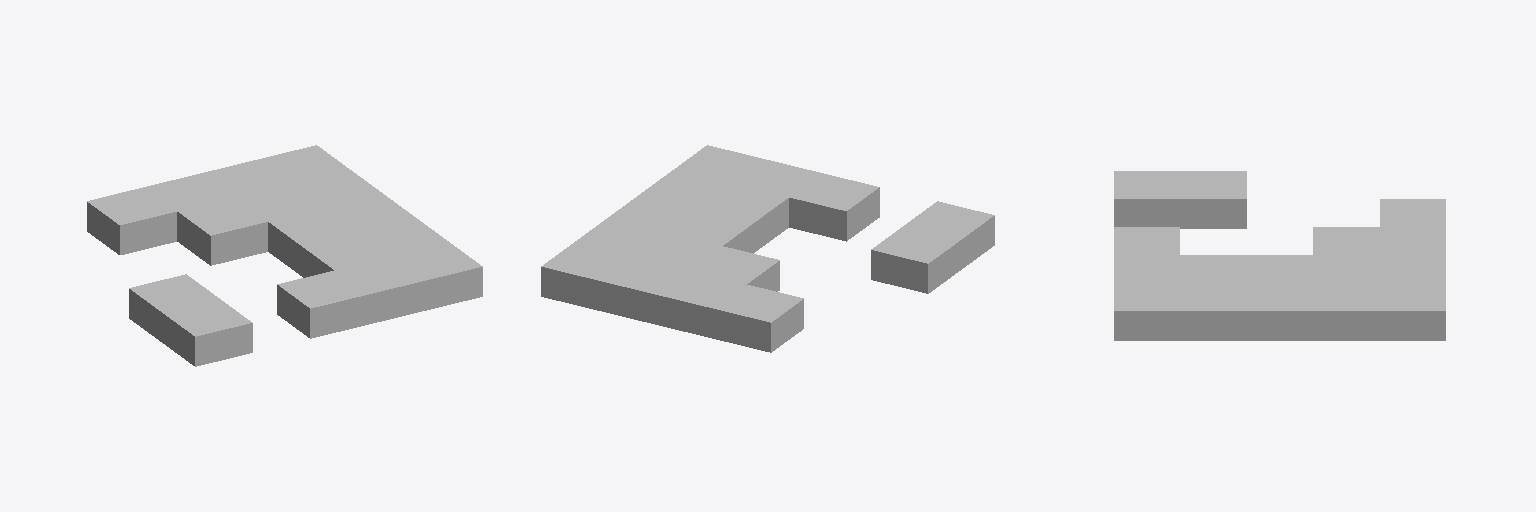
The model's file is 67s_block.obj.
3 renders of one model, left to right at view 1: azimuth 30°, elevation 25°; view 2: azimuth 150°, elevation 25°; view 3: azimuth 270°, elevation 25°, orthographic.
Parts seen in each view (by area): view 1: block.2.0_block.4799, block.0.0_block.4795, block.2.3_block.4800, block.1.4_block.4798, block.4.0_block.4807, block.3.0_block.4802, block.3.2_block.4804, block.0.1_block.4796, block.3.1_block.4803, block.4.3_block.4810, block.2.4_block.4801, block.4.1_block.4808 (+4 smaller); view 2: block.2.0_block.4799, block.0.1_block.4796, block.1.4_block.4798, block.4.4_block.4811, block.2.4_block.4801, block.3.4_block.4806, block.0.0_block.4795, block.3.1_block.4803, block.3.2_block.4804, block.2.3_block.4800, block.4.1_block.4808, block.4.3_block.4810 (+4 smaller); view 3: block.0.1_block.4796, block.4.1_block.4808, block.4.3_block.4810, block.4.0_block.4807, block.4.2_block.4809, block.4.4_block.4811, block.0.0_block.4795, block.2.3_block.4800, block.3.1_block.4803, block.3.3_block.4805, block.1.4_block.4798, block.2.0_block.4799 (+4 smaller).
Part boxes in pixels (x1,y1,x2,y2): block.2.0_block.4799: (277,270,367,338); block.0.0_block.4795: (162,298,252,366); block.2.3_block.4800: (177,198,267,265); block.1.4_block.4798: (87,187,176,254); block.4.0_block.4807: (392,242,482,310); block.3.0_block.4802: (335,257,424,324); block.3.2_block.4804: (268,208,357,275); block.0.1_block.4796: (129,274,218,341); block.3.1_block.4803: (301,232,391,277); block.4.3_block.4810: (293,169,382,207); block.2.4_block.4801: (145,173,234,210); block.4.1_block.4808: (360,218,448,255); block.2.0_block.4799: (789,173,879,241); block.0.1_block.4796: (871,226,961,293); block.1.4_block.4798: (714,285,803,352); block.4.4_block.4811: (541,242,631,310); block.2.4_block.4801: (656,270,746,338); block.3.4_block.4806: (599,257,688,324); block.0.0_block.4795: (904,201,994,268); block.3.1_block.4803: (699,183,788,250); block.3.2_block.4804: (666,208,755,253); block.2.3_block.4800: (690,246,779,291); block.4.1_block.4808: (641,169,730,207); block.4.3_block.4810: (575,218,663,255); block.0.1_block.4796: (1180,171,1246,228); block.4.1_block.4808: (1180,283,1246,340); block.4.3_block.4810: (1313,283,1379,340); block.4.0_block.4807: (1114,283,1179,340); block.4.2_block.4809: (1247,283,1312,340); block.4.4_block.4811: (1380,283,1445,340); block.0.0_block.4795: (1114,171,1179,226); block.2.3_block.4800: (1313,227,1379,254); block.3.1_block.4803: (1180,255,1246,282); block.3.3_block.4805: (1313,255,1379,282); block.1.4_block.4798: (1380,199,1445,226); block.2.0_block.4799: (1114,227,1179,254).
Bounding box in the file's own units: 10 × 1 × 10.